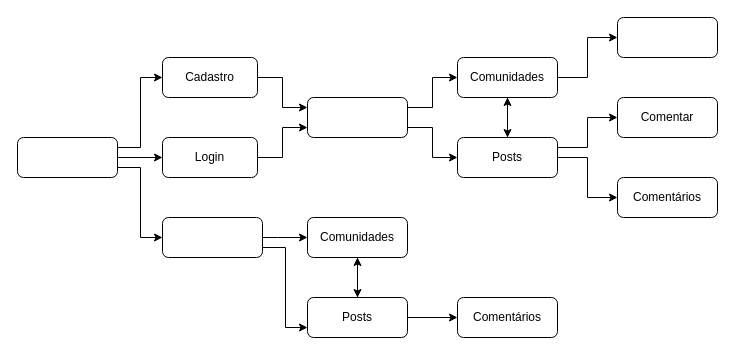
Image size: 735x355. Some labels were removed from this diagram. The centre of each missing label's shape, as x and y in pixels:
Criar Post: the point at 667,37
Home: the point at 67,157
Home (Logado): the point at 357,117
Visualização Básica: the point at 212,237
